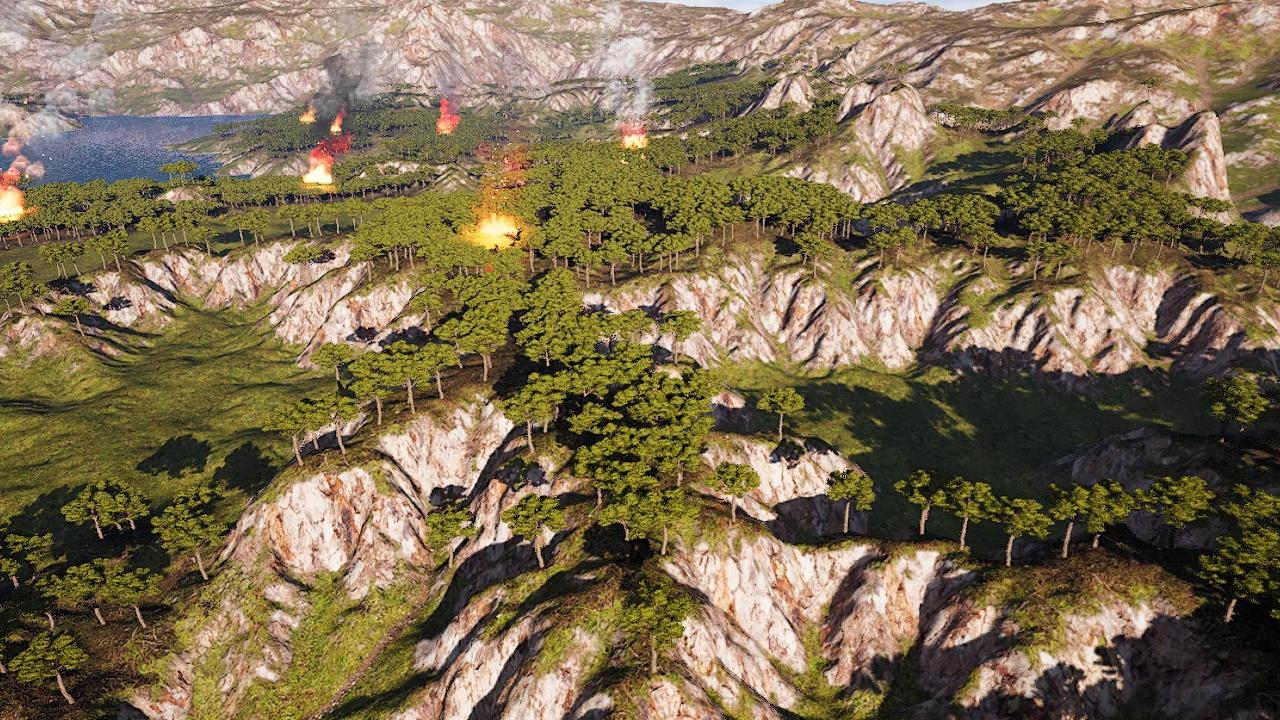fire: (0, 180, 35, 221), (296, 156, 338, 181), (478, 219, 519, 244), (434, 99, 458, 134), (617, 129, 650, 145), (301, 113, 319, 128), (335, 118, 348, 135)
smoke: (295, 52, 370, 146), (484, 95, 534, 213), (0, 134, 51, 182), (623, 76, 652, 127)
